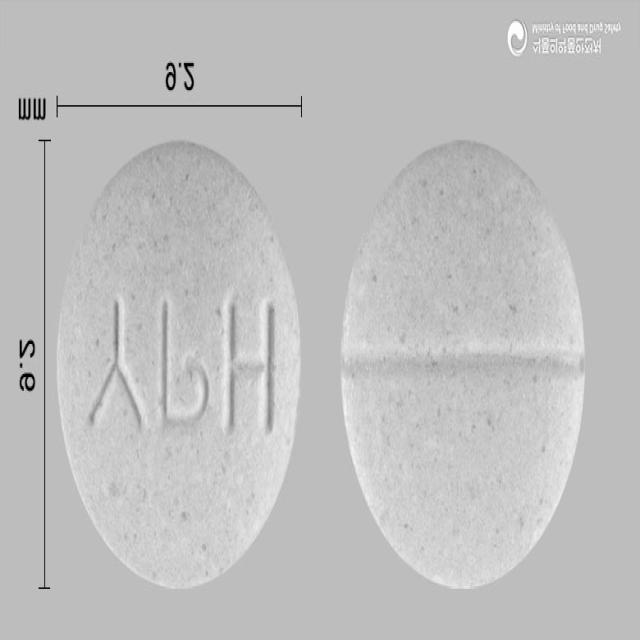Cipoxacin: (57, 140, 301, 592), (343, 140, 586, 591)
